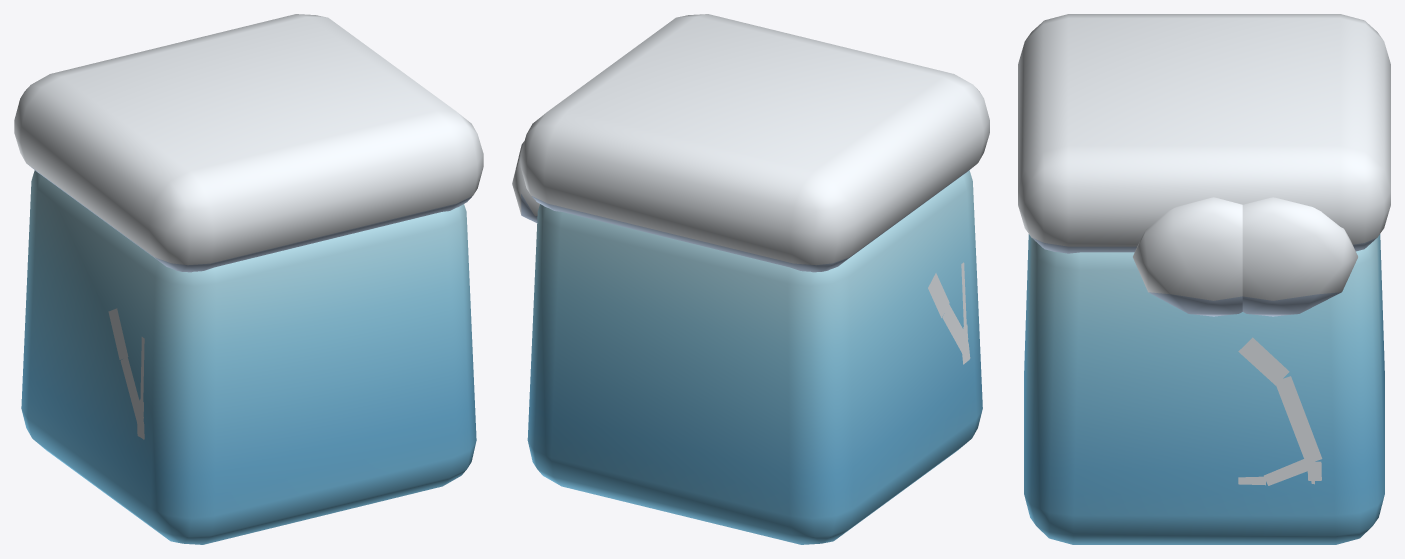
File: IceChunkA.fbx
3 renders of one model, left to right at view 1: azimuth 30°, elevation 25°; view 2: azimuth 150°, elevation 25°; view 3: azimuth 270°, elevation 25°, orthographic. The views are drawn at different scales.
Visible parts, largest first — view 1: IceChunkA; view 2: IceChunkA; view 3: IceChunkA.
Boxes of the visible parts, bbox=[...] form: IceChunkA: bbox=[14, 14, 483, 544]; IceChunkA: bbox=[512, 14, 989, 544]; IceChunkA: bbox=[1018, 14, 1390, 544].
Bounding box in the file's own units: 1.12 × 1.13 × 0.9636.
Materials: 1 (1 with a texture image).
